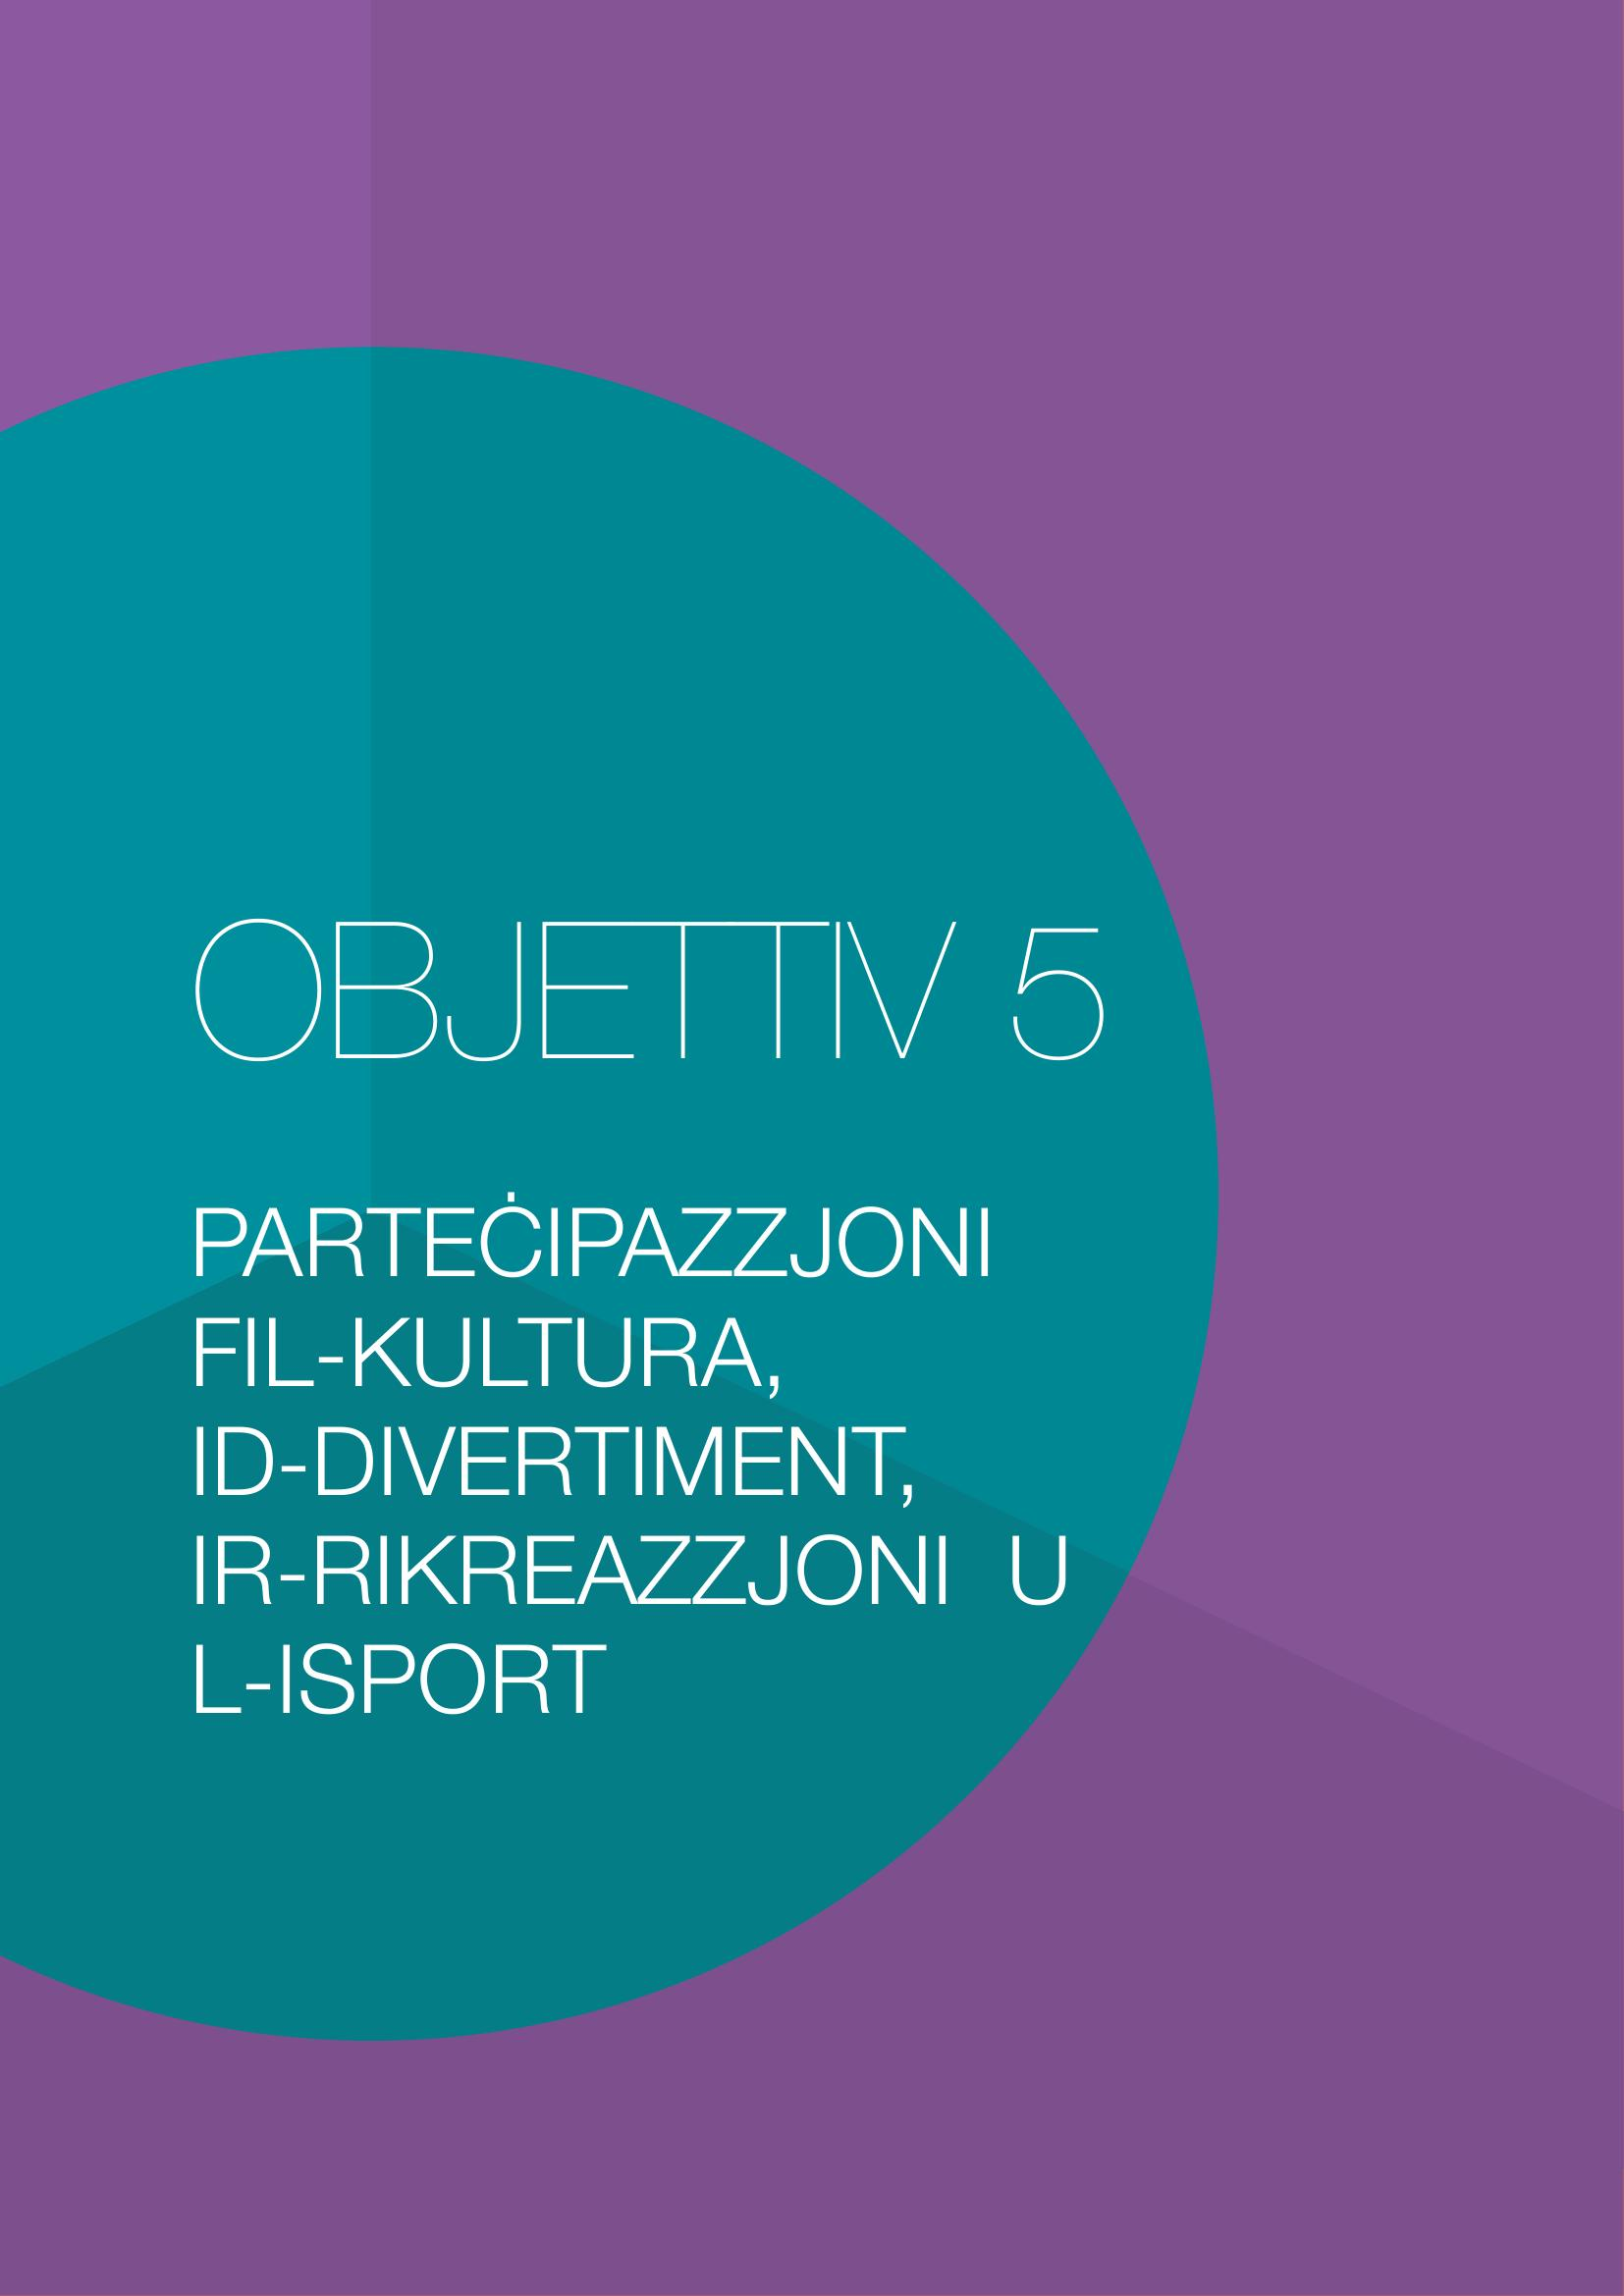text: (169, 889, 1149, 1755)
